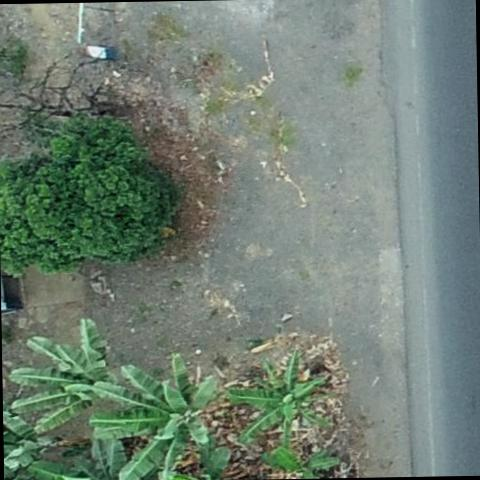Banana-plant: (86, 349, 231, 480), (4, 313, 122, 437), (222, 342, 336, 460)
